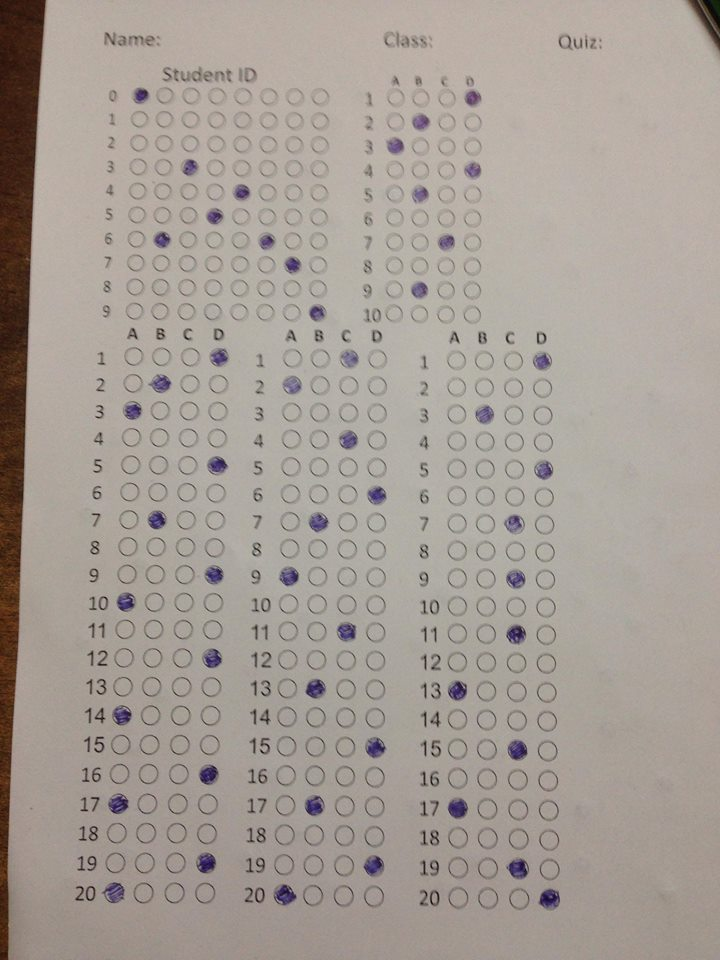not-c: (133, 851, 157, 874), (507, 888, 532, 910), (335, 510, 358, 533), (197, 734, 221, 756), (445, 766, 469, 788), (506, 769, 530, 791), (163, 853, 188, 874), (477, 885, 498, 910), (170, 646, 193, 668), (108, 733, 131, 755), (105, 821, 127, 844), (366, 347, 389, 369), (364, 566, 387, 588), (364, 678, 386, 701), (363, 885, 386, 907), (475, 708, 498, 730), (537, 799, 560, 821), (477, 827, 499, 850), (162, 882, 186, 903), (336, 456, 360, 477), (362, 766, 386, 787), (364, 827, 388, 848), (142, 618, 164, 640), (169, 676, 191, 698), (200, 676, 222, 698), (169, 733, 191, 755), (136, 792, 158, 814), (195, 823, 217, 845), (280, 400, 302, 422), (364, 621, 386, 643), (305, 648, 327, 670), (365, 650, 387, 672), (304, 705, 326, 727), (504, 540, 526, 562), (536, 682, 558, 704), (537, 769, 559, 791), (136, 763, 159, 784), (196, 794, 219, 815), (164, 823, 187, 844), (132, 882, 155, 903), (192, 882, 215, 903), (367, 376, 390, 397), (367, 511, 388, 534), (306, 538, 329, 559), (333, 678, 356, 699), (274, 794, 297, 815), (475, 597, 498, 618), (508, 829, 531, 850), (540, 829, 561, 852), (178, 373, 200, 394), (118, 508, 139, 530), (173, 536, 195, 557), (204, 538, 225, 560), (173, 564, 195, 585), (169, 704, 191, 725), (135, 822, 156, 844), (104, 851, 126, 872), (306, 565, 328, 586), (305, 621, 327, 642), (275, 734, 297, 755), (334, 795, 355, 817), (364, 795, 386, 816), (274, 824, 295, 846), (333, 825, 355, 846), (303, 853, 324, 875), (333, 884, 355, 905), (447, 596, 468, 618), (507, 709, 528, 731), (537, 740, 559, 761), (476, 767, 497, 789), (447, 858, 469, 879), (540, 858, 561, 880), (178, 347, 201, 367), (171, 619, 194, 639), (200, 704, 220, 727), (168, 762, 188, 785), (337, 375, 360, 395), (335, 566, 358, 586), (272, 855, 295, 875), (535, 540, 555, 563), (445, 652, 468, 672), (474, 680, 497, 700), (206, 400, 227, 421), (147, 454, 168, 475), (144, 592, 165, 613), (115, 619, 136, 640), (308, 374, 329, 395), (366, 456, 387, 477), (335, 594, 356, 615), (336, 706, 357, 727), (335, 765, 356, 786), (332, 854, 353, 875), (536, 571, 557, 592), (537, 712, 558, 733), (123, 374, 145, 394), (177, 401, 199, 421), (141, 648, 163, 668), (138, 735, 160, 755), (311, 349, 333, 369), (308, 428, 330, 448), (279, 510, 299, 532), (277, 539, 299, 559), (336, 540, 358, 560), (277, 620, 299, 640), (365, 708, 385, 730), (302, 824, 324, 844), (476, 485, 496, 507), (447, 737, 467, 759), (475, 739, 497, 759), (477, 797, 497, 819), (479, 856, 499, 878), (277, 595, 300, 614), (277, 705, 296, 728), (503, 351, 526, 370), (503, 459, 526, 478), (445, 710, 468, 729), (208, 373, 228, 394), (148, 399, 169, 419), (119, 480, 140, 500), (176, 509, 197, 529), (113, 648, 134, 668), (139, 705, 160, 725), (167, 794, 188, 814), (309, 401, 330, 421), (366, 429, 387, 449), (366, 540, 387, 560), (335, 736, 356, 756), (384, 110, 405, 130), (446, 349, 467, 369), (533, 378, 553, 399), (505, 432, 526, 452), (446, 484, 466, 505), (476, 569, 496, 590), (476, 624, 497, 644), (537, 625, 558, 645), (449, 827, 470, 847), (449, 888, 469, 909), (309, 159, 331, 178), (206, 429, 228, 448), (202, 593, 224, 612), (280, 347, 302, 366), (304, 883, 323, 905), (475, 653, 497, 672), (507, 654, 529, 673), (506, 682, 528, 701), (306, 279, 330, 296), (230, 278, 250, 298), (108, 764, 128, 784), (337, 650, 357, 670), (446, 430, 466, 450), (535, 599, 555, 619), (509, 800, 529, 820), (180, 86, 201, 105), (120, 427, 141, 446), (120, 454, 141, 473), (178, 454, 197, 475), (148, 482, 169, 501), (145, 538, 166, 557), (308, 483, 329, 502), (307, 595, 328, 614), (276, 679, 297, 698), (275, 766, 296, 785), (474, 351, 495, 370), (446, 459, 467, 478), (446, 541, 467, 560), (448, 569, 469, 588), (536, 655, 557, 674), (336, 485, 358, 503), (503, 488, 526, 505), (156, 86, 176, 105), (283, 183, 303, 202), (308, 255, 328, 274), (176, 482, 196, 501), (145, 564, 164, 584), (173, 593, 192, 613), (339, 403, 358, 423), (280, 457, 299, 477), (280, 485, 300, 504), (367, 595, 386, 615), (304, 767, 324, 786), (463, 209, 483, 228), (436, 256, 456, 275), (505, 404, 524, 424), (476, 541, 496, 560), (507, 599, 527, 618), (258, 110, 279, 128), (233, 109, 254, 127), (206, 109, 227, 127), (180, 109, 201, 127), (154, 109, 175, 127), (128, 108, 149, 126), (309, 86, 330, 104), (283, 86, 304, 104), (258, 85, 279, 103), (309, 134, 330, 152), (282, 134, 303, 152), (308, 110, 329, 128), (282, 110, 303, 128), (205, 157, 226, 175), (151, 157, 172, 175), (257, 134, 278, 152), (232, 134, 253, 152), (204, 134, 225, 152), (180, 132, 201, 150), (153, 133, 174, 151), (126, 204, 147, 222), (127, 180, 148, 198), (127, 157, 148, 175), (127, 134, 148, 152), (282, 159, 303, 177), (256, 158, 277, 176), (203, 229, 224, 247), (176, 228, 197, 246), (178, 205, 199, 223), (203, 182, 224, 200), (125, 230, 146, 248), (152, 205, 173, 223), (178, 181, 199, 199), (151, 182, 172, 200), (231, 158, 252, 176), (125, 277, 146, 295), (205, 483, 226, 501), (205, 509, 223, 530), (117, 538, 138, 556), (202, 621, 223, 639), (112, 678, 133, 696), (140, 678, 161, 696), (308, 456, 329, 474), (464, 110, 482, 131), (383, 304, 404, 322), (474, 378, 495, 396), (447, 625, 468, 643), (383, 281, 405, 298), (257, 183, 276, 202), (229, 255, 248, 274), (256, 277, 275, 296), (229, 303, 248, 322), (177, 428, 196, 447), (278, 650, 297, 669), (306, 737, 325, 756), (438, 161, 457, 180), (476, 433, 495, 452), (149, 302, 169, 320), (152, 349, 172, 367), (117, 565, 137, 583), (436, 89, 456, 107), (385, 160, 405, 178), (436, 185, 456, 203), (383, 233, 403, 251), (462, 259, 482, 277), (462, 281, 482, 299), (534, 405, 554, 423), (535, 431, 553, 451), (535, 487, 555, 505), (535, 516, 555, 534), (308, 232, 329, 249), (474, 515, 495, 532), (257, 208, 276, 226), (204, 254, 223, 272), (151, 278, 170, 296), (149, 428, 168, 446), (367, 404, 386, 422), (281, 429, 300, 447), (411, 88, 429, 107), (463, 136, 482, 154), (446, 377, 465, 395), (504, 378, 523, 396), (445, 404, 464, 422), (476, 459, 494, 478), (448, 515, 467, 533), (124, 254, 144, 271), (123, 347, 143, 364), (281, 304, 302, 320), (207, 88, 225, 106), (232, 230, 250, 248), (203, 278, 221, 296), (283, 280, 301, 298), (203, 301, 221, 319), (412, 162, 430, 180), (384, 208, 402, 226), (438, 209, 456, 227), (232, 86, 251, 103), (257, 303, 276, 320), (387, 86, 404, 105), (309, 184, 329, 200), (309, 209, 329, 225), (255, 255, 275, 271), (409, 209, 429, 225), (436, 282, 456, 298), (150, 255, 171, 270), (178, 280, 196, 297), (438, 113, 456, 130), (231, 208, 250, 224), (283, 209, 302, 225), (177, 255, 196, 271), (411, 138, 430, 154), (384, 257, 403, 273), (410, 306, 429, 322), (436, 306, 455, 322), (463, 234, 480, 251), (284, 233, 302, 249), (126, 303, 142, 321), (463, 185, 481, 201), (410, 233, 428, 249), (386, 185, 403, 201), (410, 256, 427, 272), (176, 303, 194, 318), (463, 307, 480, 322), (437, 138, 454, 152)
taken-c: (361, 733, 387, 761), (504, 737, 532, 763), (199, 644, 225, 671), (271, 881, 298, 907), (302, 791, 328, 818), (144, 506, 170, 532), (204, 452, 229, 479), (102, 880, 127, 906), (504, 566, 529, 592), (109, 701, 133, 728), (207, 343, 231, 369), (148, 370, 172, 396), (106, 791, 131, 815), (195, 850, 219, 875), (276, 563, 300, 588), (306, 509, 331, 533), (365, 482, 389, 507), (530, 348, 555, 372), (532, 458, 557, 482), (504, 621, 529, 645), (446, 678, 470, 703), (506, 858, 532, 881), (539, 887, 562, 913), (120, 398, 144, 422), (503, 512, 527, 536), (446, 796, 470, 820), (201, 563, 226, 586), (363, 853, 386, 878), (473, 401, 496, 426), (197, 763, 220, 787), (305, 676, 328, 700), (280, 373, 303, 397), (408, 183, 432, 206), (129, 84, 152, 107), (230, 181, 254, 203), (115, 590, 137, 614), (337, 428, 361, 450), (338, 346, 360, 370), (255, 230, 278, 252), (179, 155, 201, 177), (335, 621, 357, 643), (283, 253, 304, 275), (462, 161, 485, 181), (384, 135, 407, 155), (204, 206, 225, 227), (409, 279, 430, 300), (411, 112, 431, 132), (152, 229, 171, 250), (308, 302, 327, 323), (464, 87, 483, 108), (438, 233, 457, 252)
